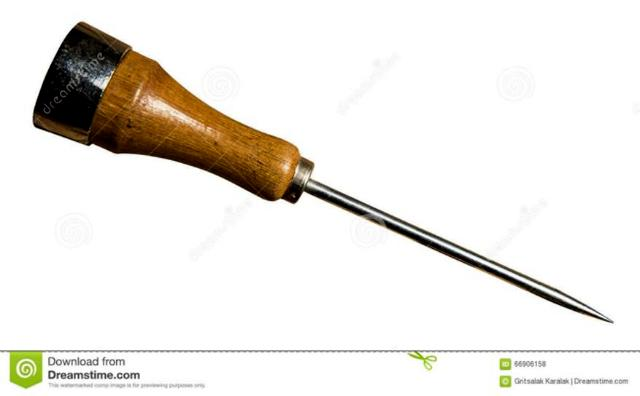ice pick: (29, 18, 616, 328)
